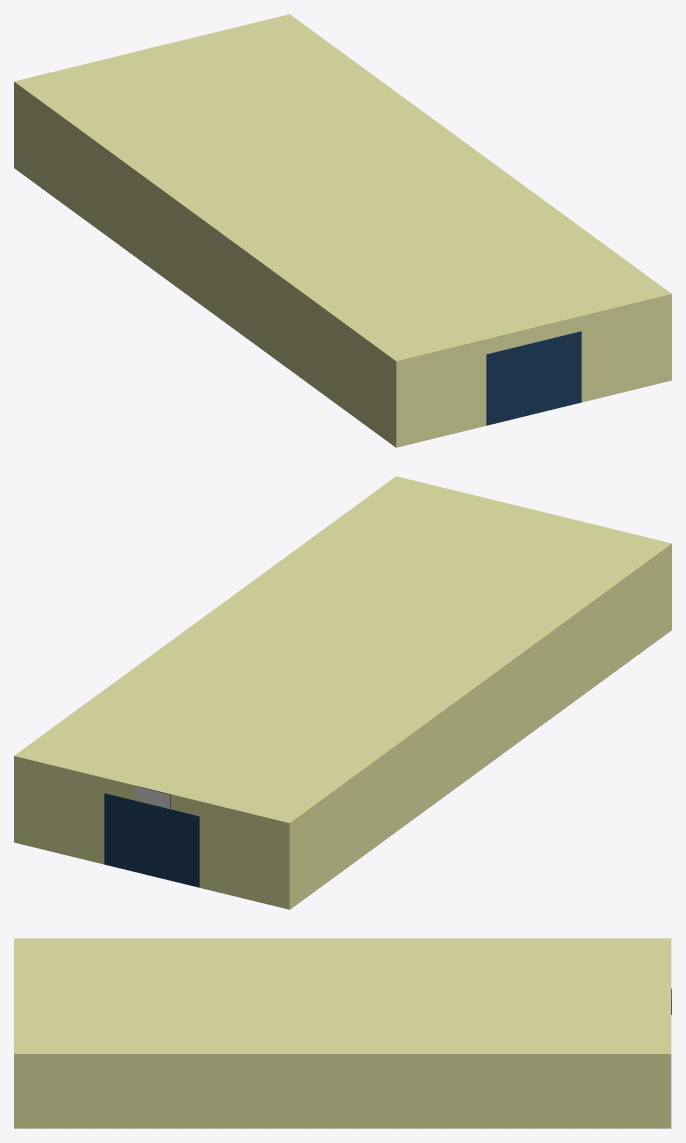
The model's file is Qcnn_STARTER_ROOM.fbx.
3 views of the same model, one above another, from view 1: azimuth 30°, elevation 25°; view 2: azimuth 150°, elevation 25°; view 3: azimuth 270°, elevation 25° (orthographic). The views are drawn at different scales.
Parts seen in each view (by area): view 1: Plane.004, Plane.008, Plane.009; view 2: Plane.004, Plane.005, Plane.007; view 3: Plane.004.
Boxes of the visible parts, x1,y1,x2,y2 form: Plane.004: (14, 14, 671, 447); Plane.008: (534, 331, 581, 413); Plane.009: (486, 343, 533, 425); Plane.004: (14, 476, 671, 909); Plane.005: (104, 793, 151, 875); Plane.007: (152, 805, 199, 887); Plane.004: (14, 938, 671, 1128).
Bounding box in the file's own units: 3000 × 900 × 7207.
6 materials, 6 textured.
